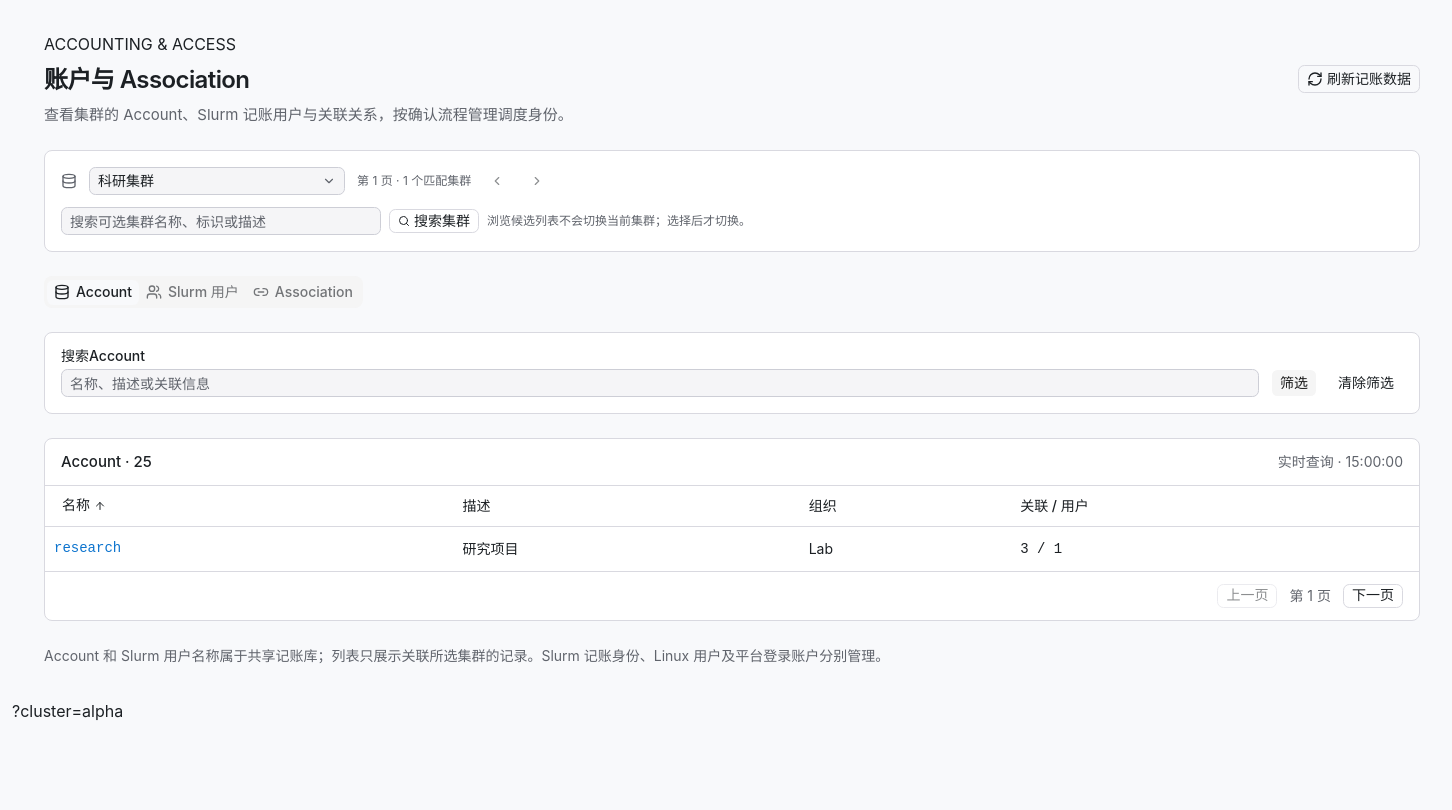
Test: 集群管理员不显示全局身份创建，但可按权限创建关联
Check: the button "research" is shown, box x1=53 y1=534 x2=122 y2=562
Click the tab "Association" at (303, 292), box x1=246 y1=280 x2=360 y2=304
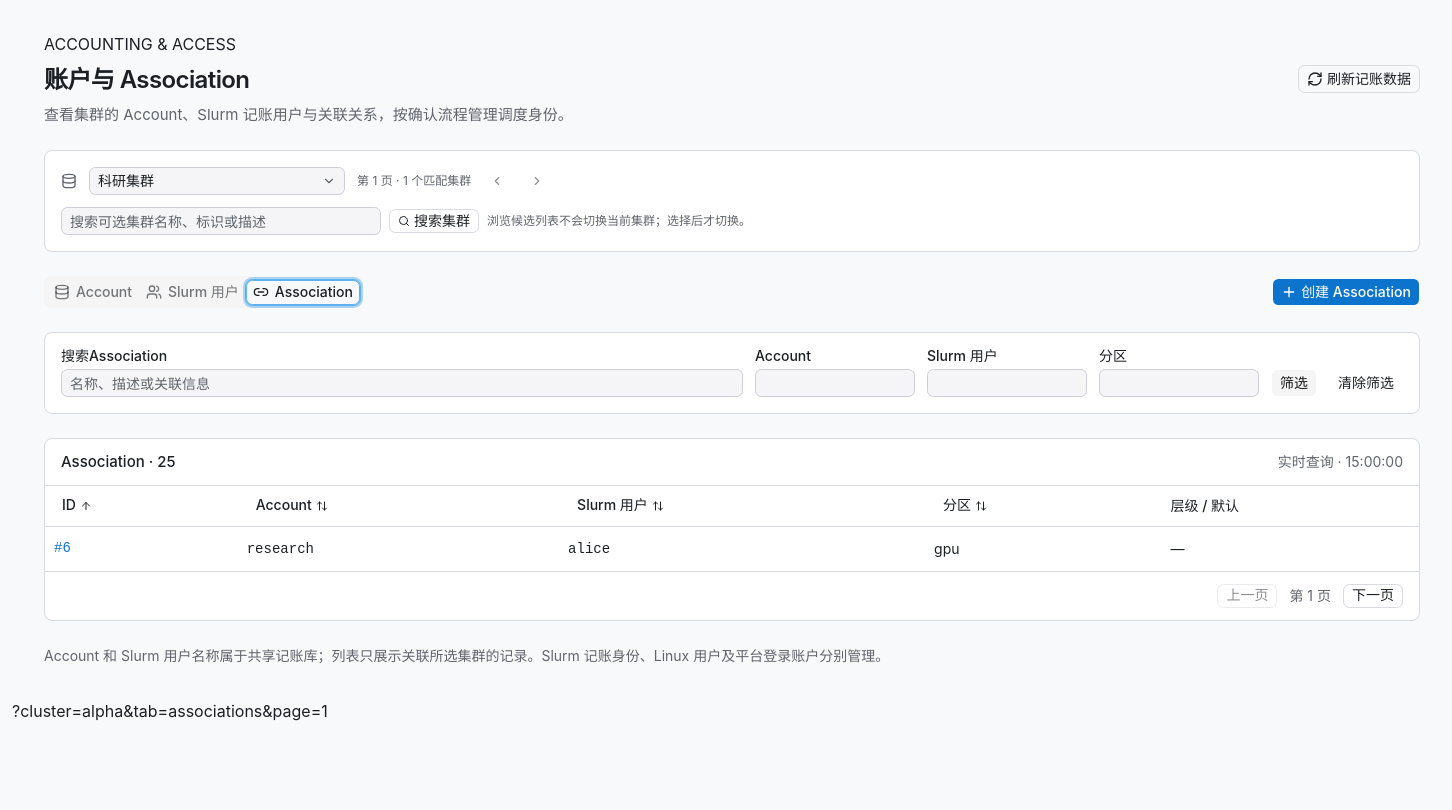
Check: the button "创建 Association" is enabled, box x1=1272 y1=278 x2=1420 y2=306
